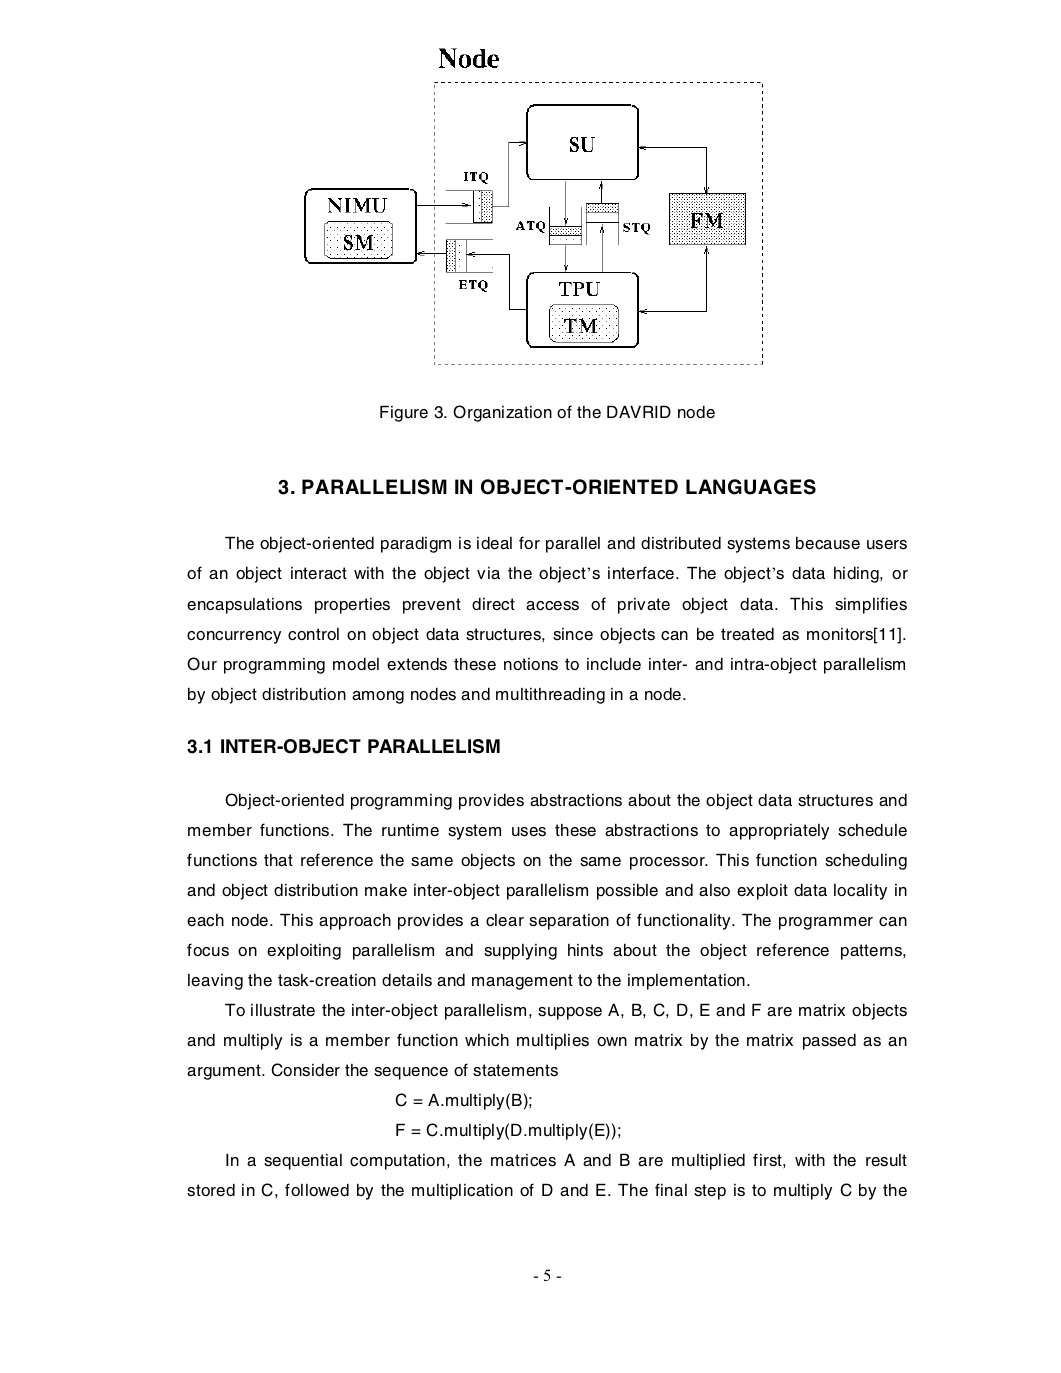figure: (304, 48, 762, 364)
formula: (396, 1122, 620, 1140), (395, 1092, 530, 1110)
